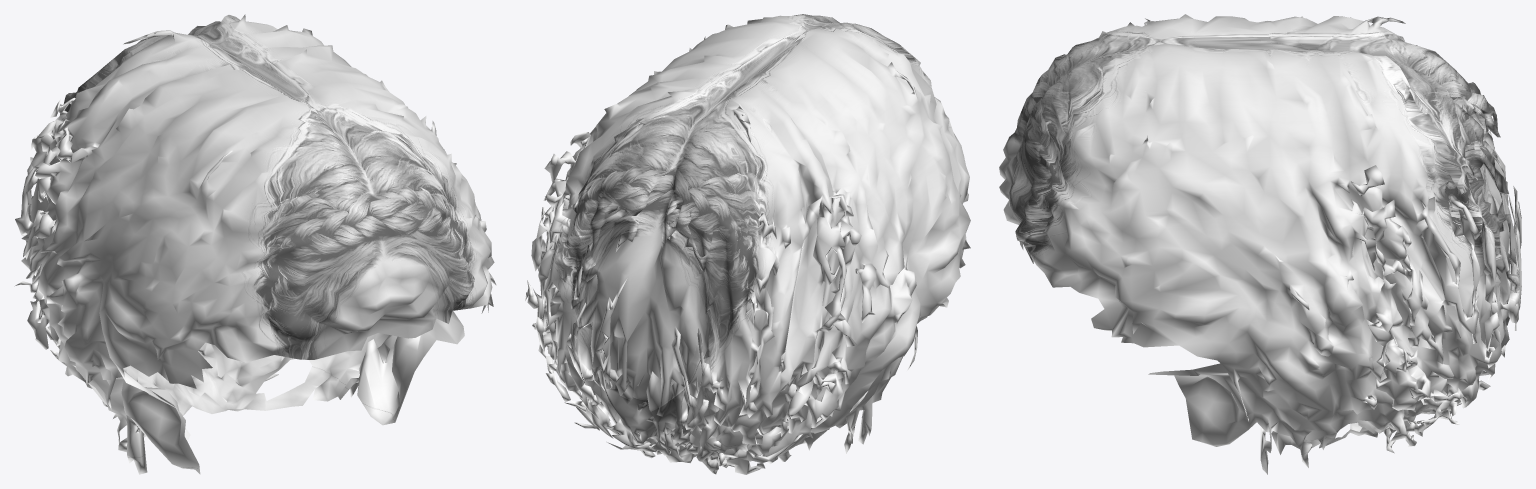
Rendered from hair_crown.glb.
3 views of the same model, side by side, from view 1: azimuth 30°, elevation 25°; view 2: azimuth 150°, elevation 25°; view 3: azimuth 270°, elevation 25° (orthographic). The views are drawn at different scales.
Visible parts, largest first — view 1: hair; view 2: hair; view 3: hair.
Part boxes in pixels (left/top/right/bottom): hair: left=14, top=14, right=496, bottom=474; hair: left=525, top=14, right=970, bottom=474; hair: left=999, top=14, right=1521, bottom=474.
Bounding box in the file's own units: 0.2416 × 0.2405 × 0.2927.
Materials: 1 (1 with a texture image).
